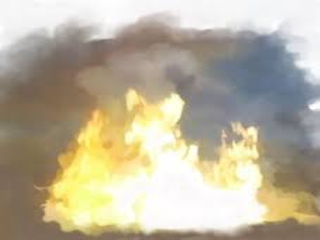fire: (42, 93, 283, 229)
